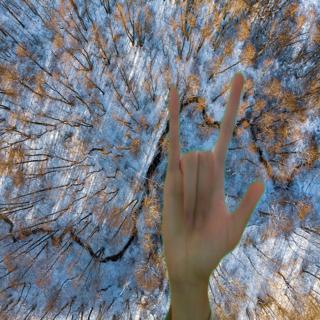ILY: (157, 69, 269, 294)
